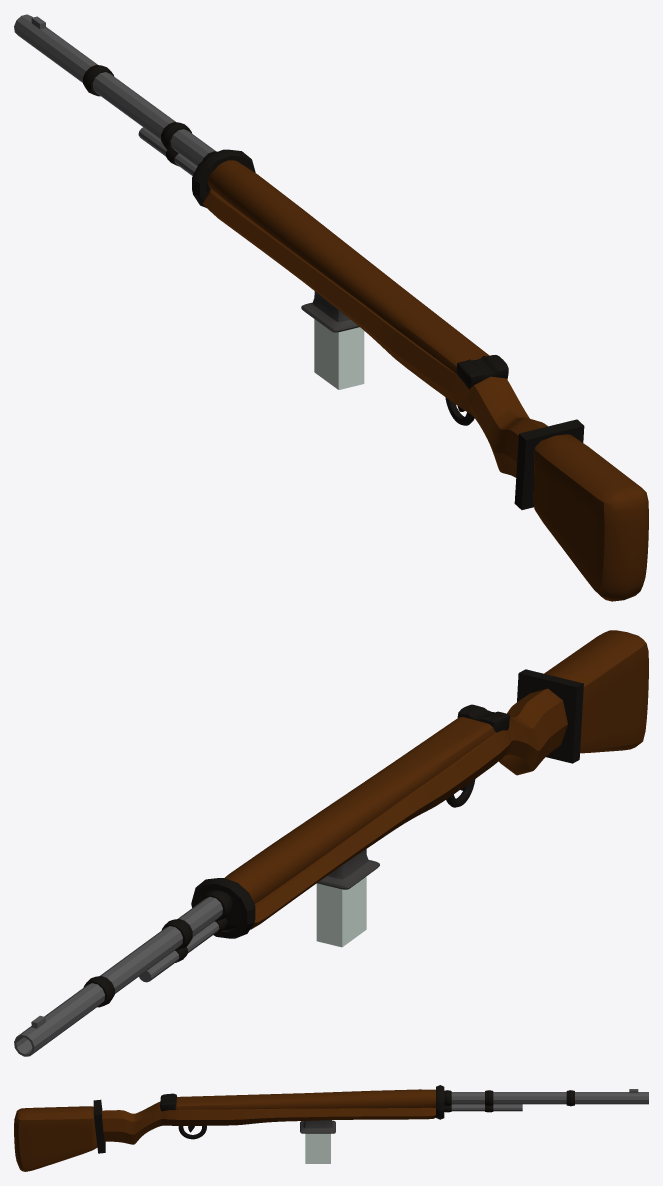
The model's file is Rifle.fbx.
3 renders of one model, top to bottom at view 1: azimuth 30°, elevation 25°; view 2: azimuth 150°, elevation 25°; view 3: azimuth 270°, elevation 25°, orthographic. The views are drawn at different scales.
Visible parts, largest first — view 1: Base, Cylinder, Cube, Cylinder.001, Cube.001, Ammo, Cube.002, Ammo Holder, Torus.002; view 2: Cylinder, Cube, Base, Cylinder.001, Cube.001, Ammo, Torus.002, Ammo Holder, Cylinder.002, Cube.002; view 3: Cube, Base, Cylinder, Cylinder.001, Ammo, Cube.001, Torus.002, Cylinder.002, Ammo Holder, Cube.002, Cube.004.
Part boxes in pixels (<box>): Base: <box>533,434,648,601</box>; Cylinder: <box>207,160,489,374</box>; Cube: <box>203,189,547,477</box>; Cylinder.001: <box>14,14,215,166</box>; Cube.001: <box>192,149,584,509</box>; Ammo: <box>314,319,364,389</box>; Cube.002: <box>456,355,508,389</box>; Ammo Holder: <box>301,291,359,332</box>; Torus.002: <box>83,65,216,166</box>; Cylinder: <box>225,717,495,903</box>; Cube: <box>250,688,567,929</box>; Base: <box>544,630,648,753</box>; Cylinder.001: <box>14,897,222,1056</box>; Cube.001: <box>191,669,583,938</box>; Ammo: <box>316,876,366,947</box>; Torus.002: <box>83,890,232,1007</box>; Ammo Holder: <box>317,849,379,889</box>; Cylinder.002: <box>139,921,219,982</box>; Cube.002: <box>457,704,509,732</box>; Cube: <box>101,1102,436,1144</box>; Base: <box>14,1106,97,1171</box>; Cylinder: <box>169,1089,435,1110</box>; Cylinder.001: <box>451,1089,648,1104</box>; Ammo: <box>305,1133,330,1163</box>; Cube.001: <box>93,1085,444,1153</box>; Torus.002: <box>444,1090,574,1112</box>; Cylinder.002: <box>451,1104,522,1111</box>; Ammo Holder: <box>300,1120,335,1133</box>; Cube.002: <box>160,1093,176,1111</box>; Cube.004: <box>178,1125,206,1139</box>.
Size of the model in its own units: 30.13 by 72.6 by 506.
